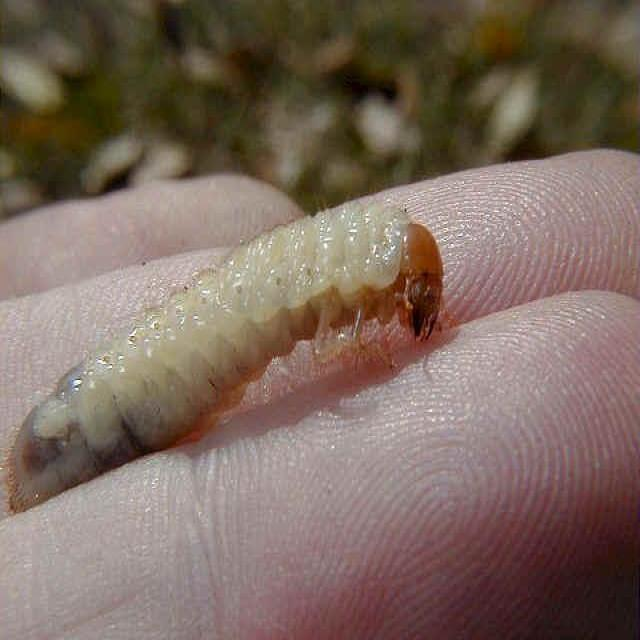Grub-Adult-: (6, 177, 455, 518)
